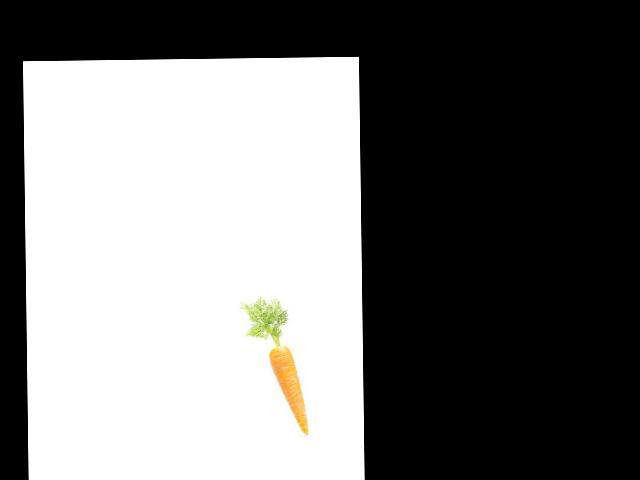carrot: (267, 340, 315, 437)
